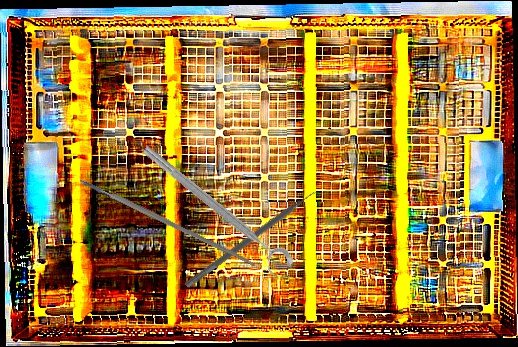Fixation Ring: (132, 140, 297, 282)
Scalpel Handle: (78, 175, 257, 269)
Spatula Surgical: (184, 183, 325, 295)
